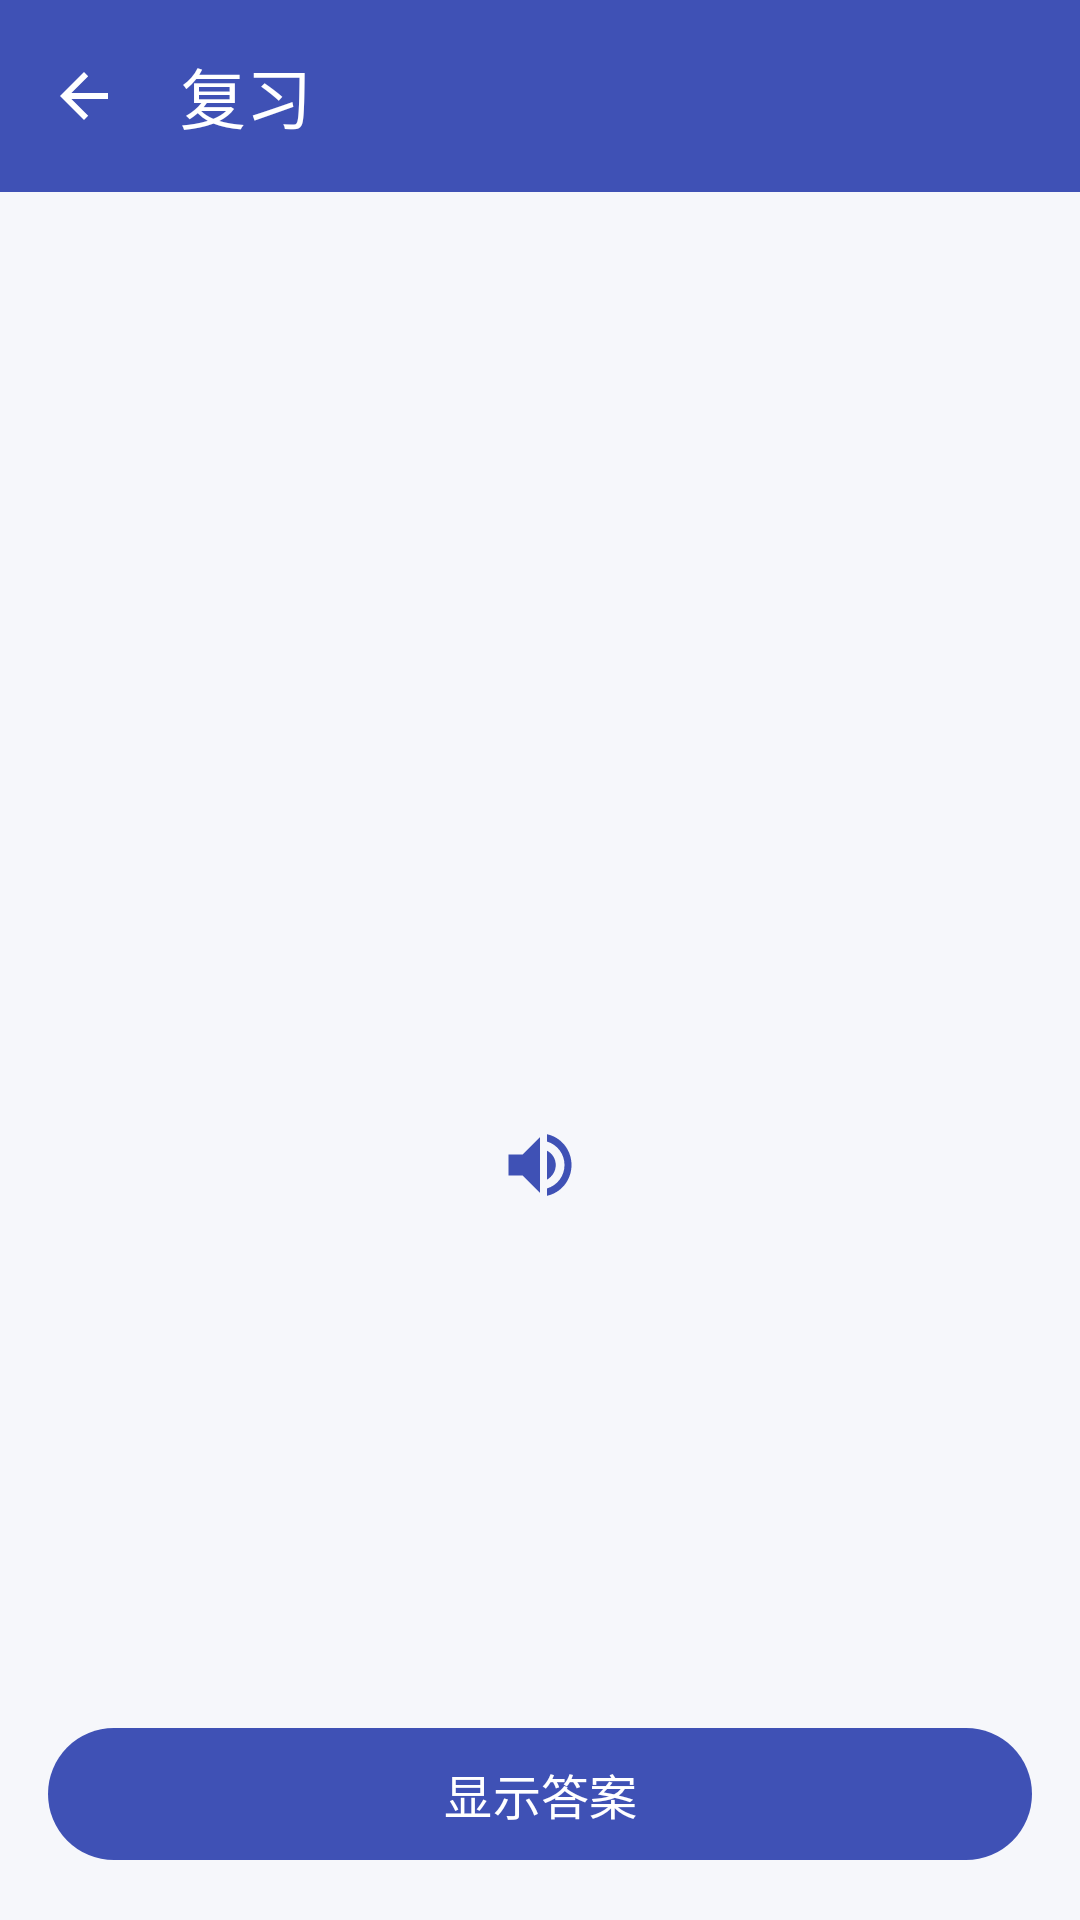

Icons on this 1080px x 1920px Android screen, each with its box as (x1, y1, x2, y2):
发音: (508, 1134, 572, 1196)
